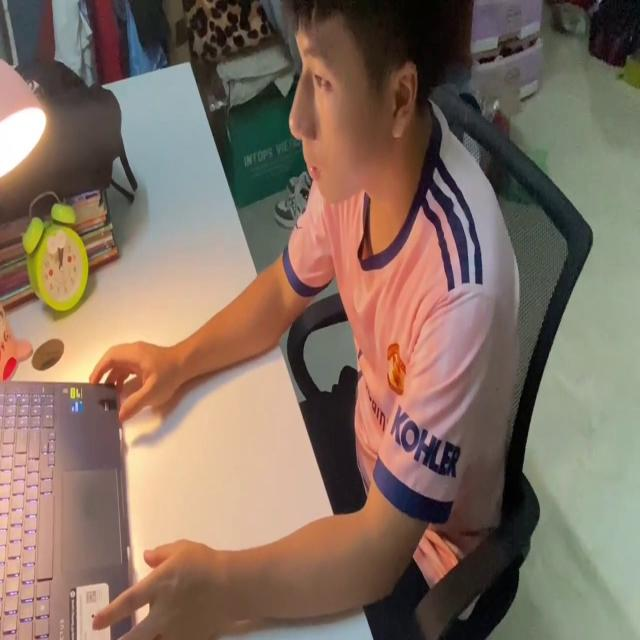laptop: (0, 373, 140, 640)
student: (87, 1, 521, 640)
